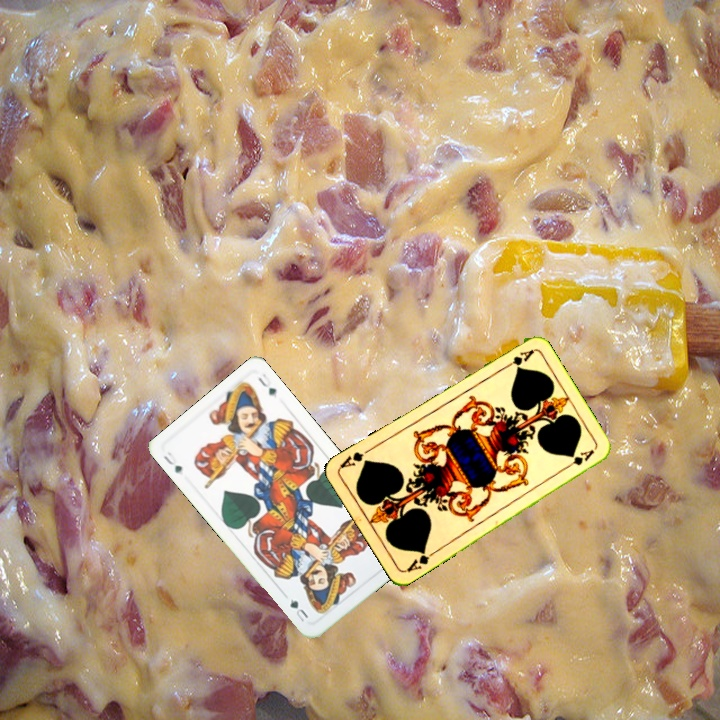GA: (402, 545, 438, 575), (498, 346, 536, 372)
GU: (159, 448, 185, 476)
